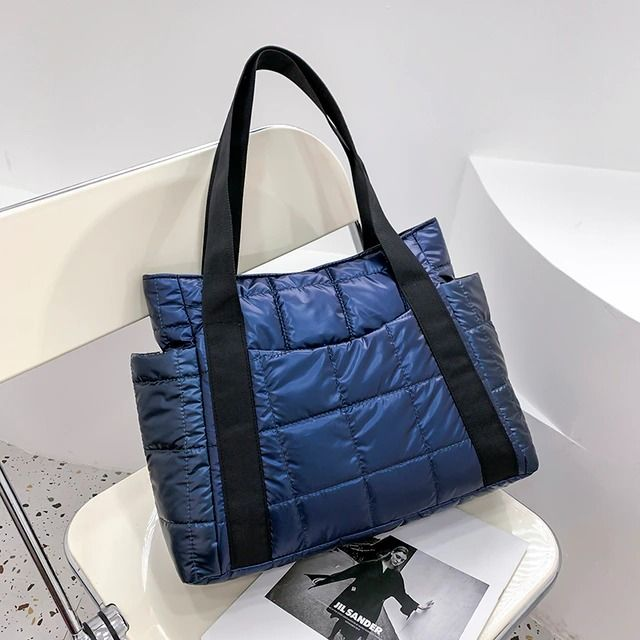nylon: (130, 45, 539, 586)
